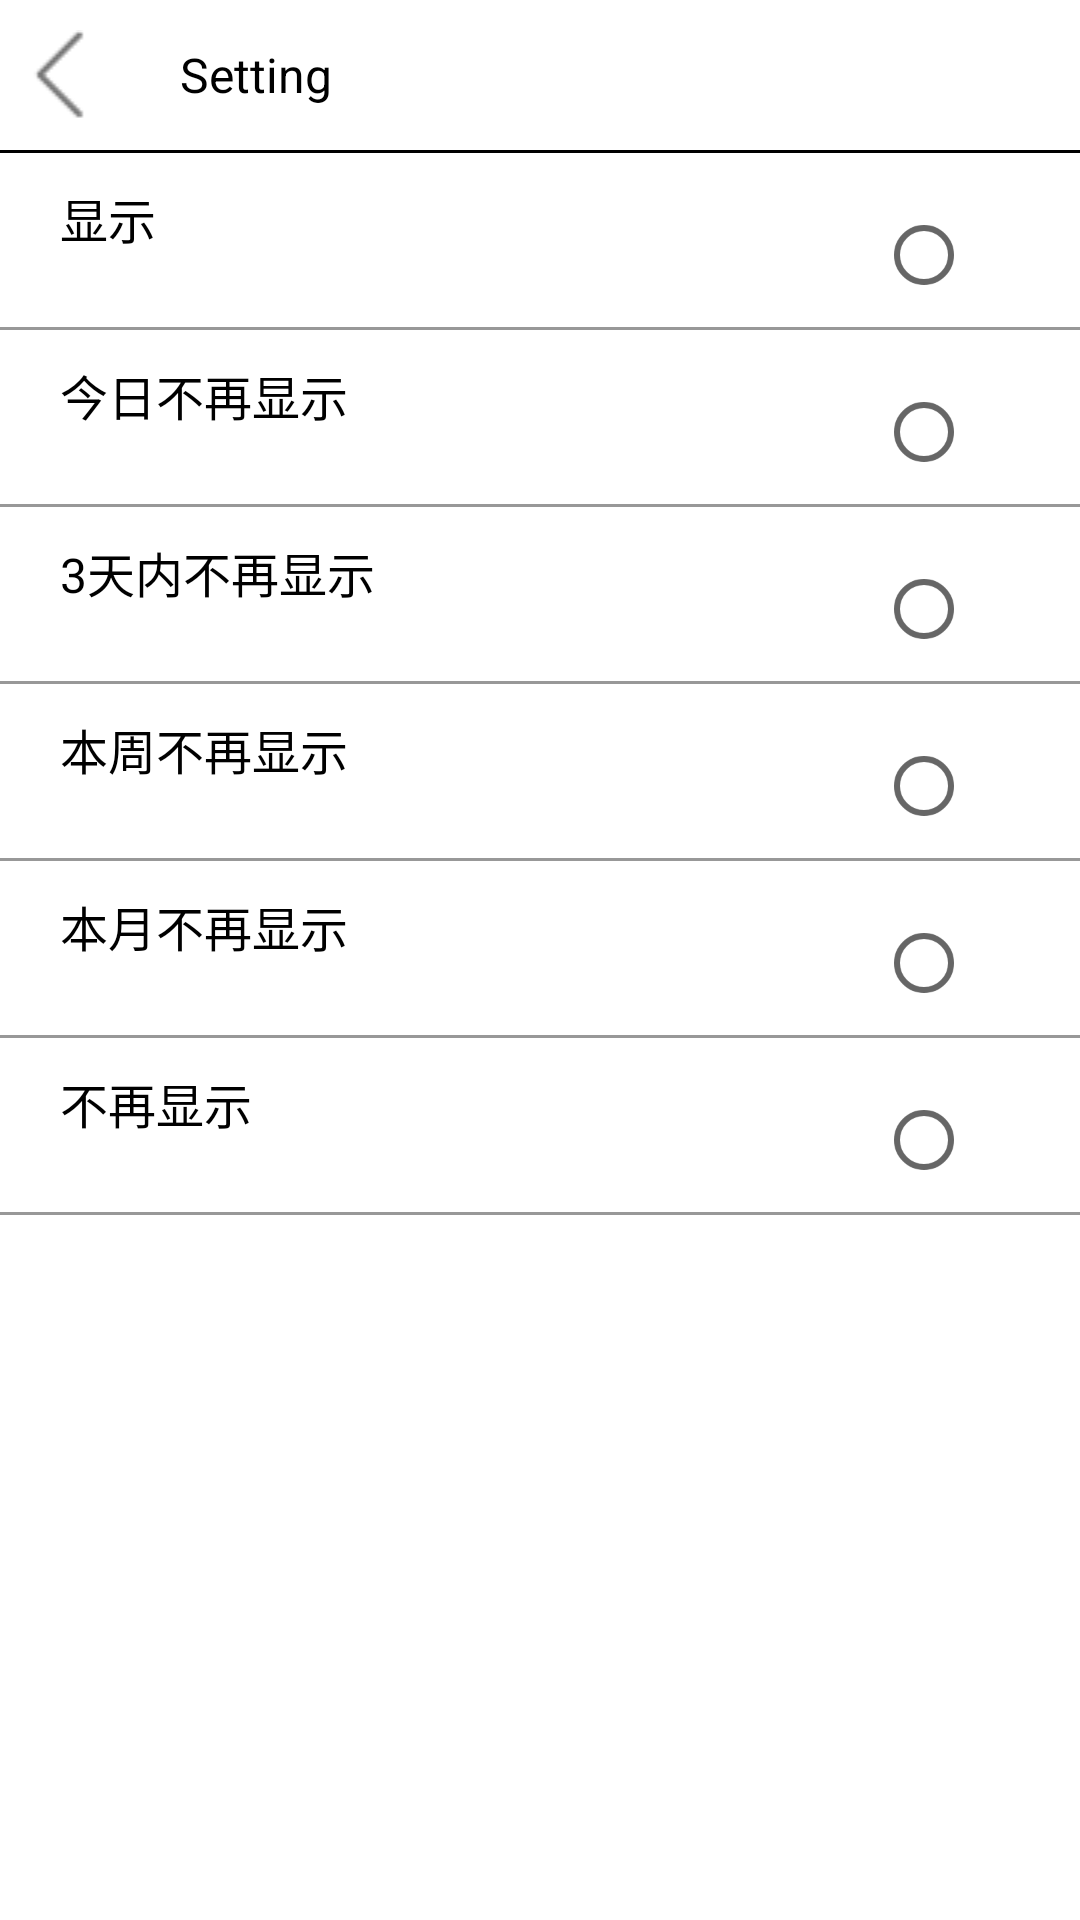

Named icons in this screenshot (1080px×1920px) and their centers, [x,y]:
qew lock set return: [59,75]
